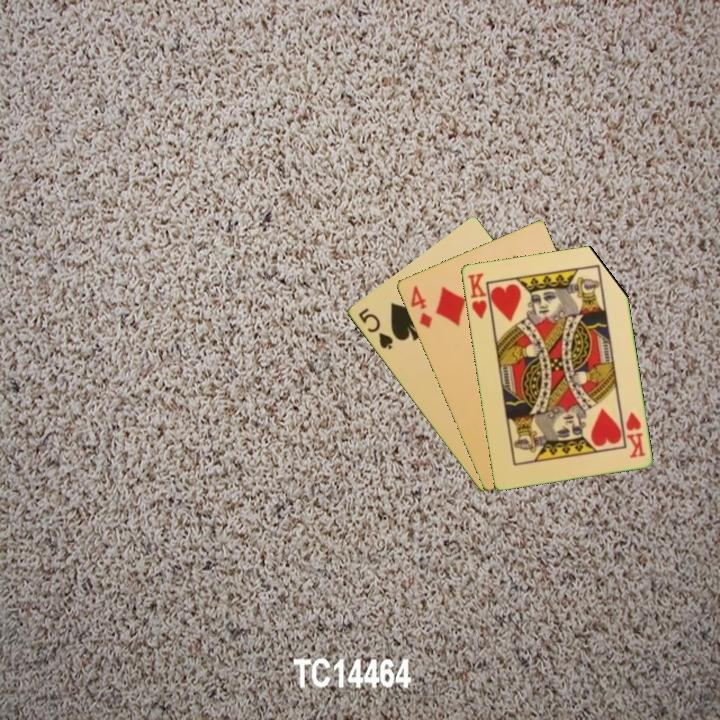4d: (407, 282, 435, 331)
5s: (354, 304, 396, 352)
Kh: (464, 269, 494, 323), (622, 409, 648, 461)
